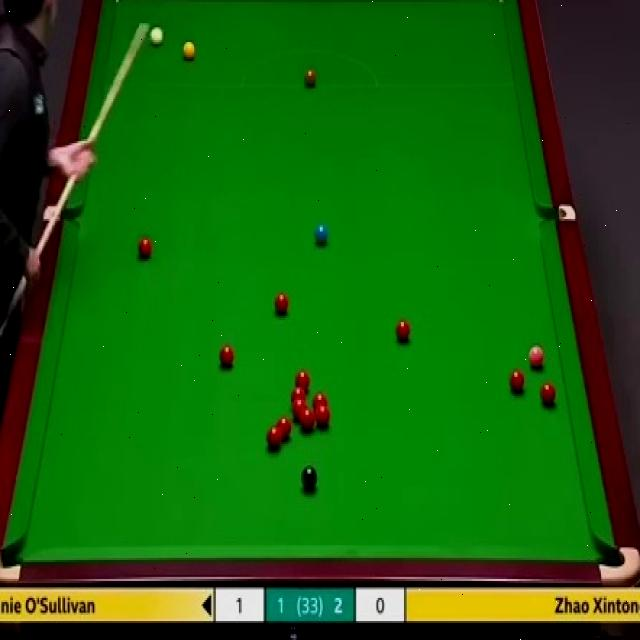black-ball: (300, 465, 318, 488)
blue-ball: (313, 223, 330, 246)
brown-ball: (303, 68, 316, 88)
pink-ball: (527, 345, 546, 369)
red-ball: (509, 366, 525, 394), (267, 424, 283, 450), (539, 381, 556, 405), (274, 291, 290, 316), (394, 318, 411, 341), (276, 416, 292, 440), (294, 369, 310, 391), (316, 403, 330, 428), (219, 343, 234, 366), (300, 408, 315, 431), (137, 238, 152, 260), (289, 386, 306, 405), (292, 399, 306, 420), (312, 391, 329, 407)
white-ball: (150, 26, 164, 49)
yellow-ball: (182, 41, 195, 63)
